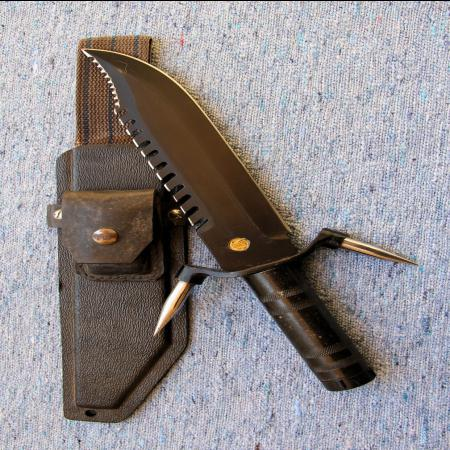long weapon: (75, 42, 286, 260)
